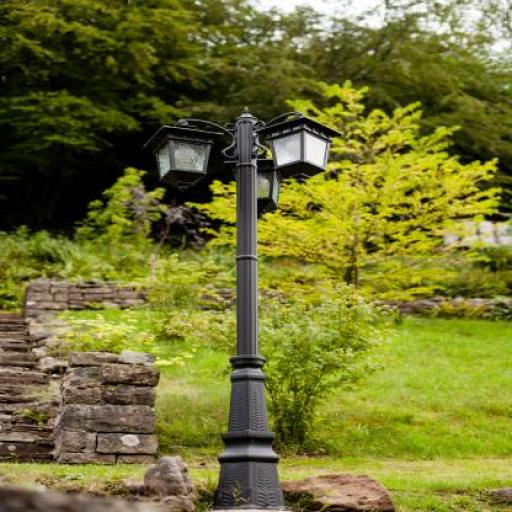street light: (141, 107, 346, 511)
